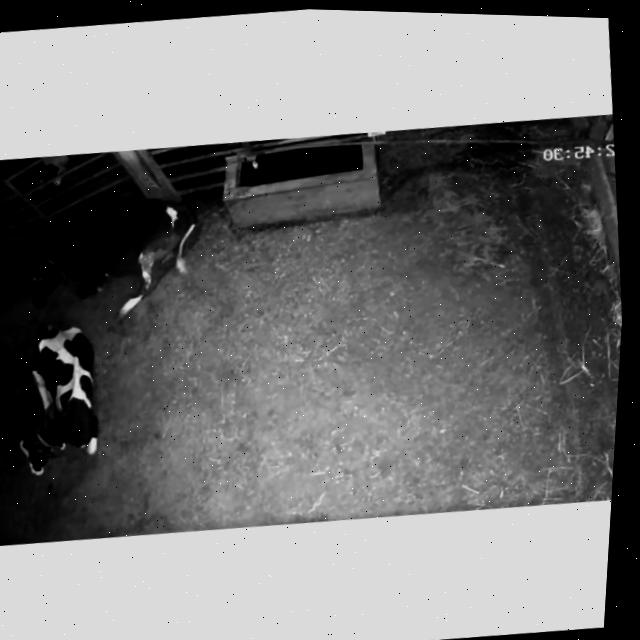lay: (0, 177, 221, 334), (0, 305, 120, 488)
